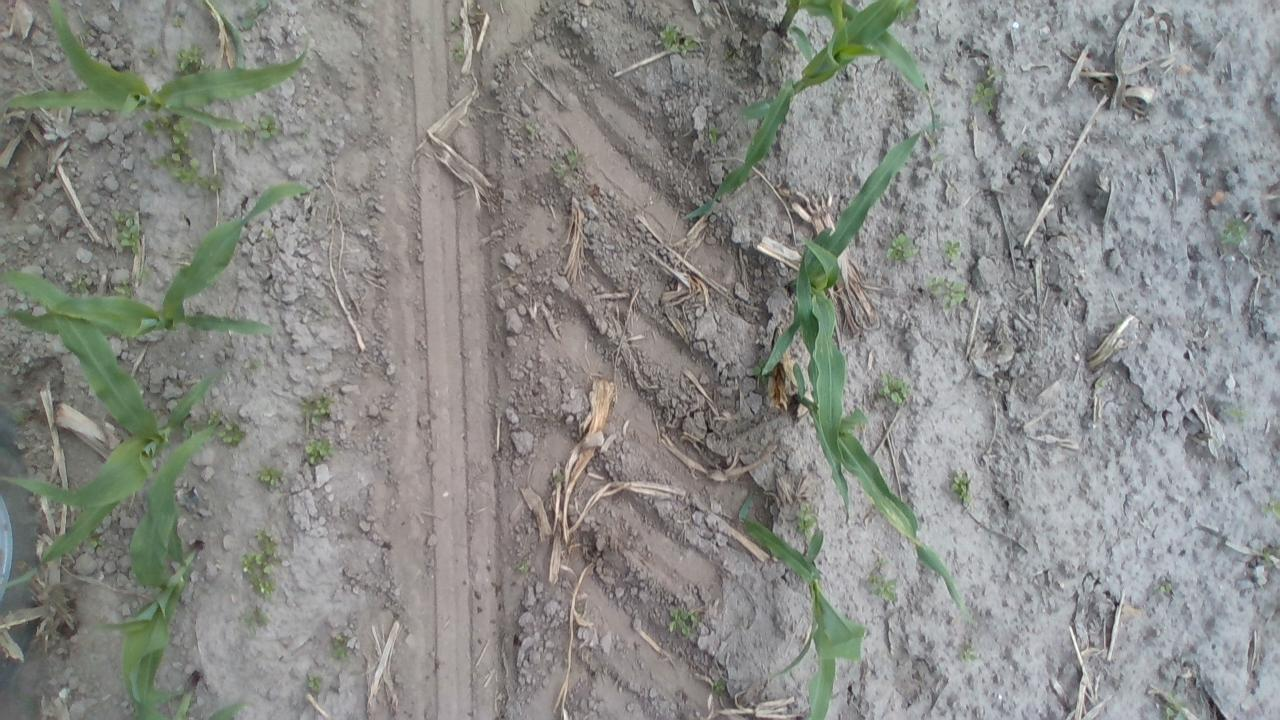Maize: (746, 114, 936, 534), (780, 240, 979, 616), (0, 286, 224, 594), (680, 0, 940, 220), (8, 175, 314, 346), (0, 1, 318, 133), (96, 420, 218, 720), (733, 481, 875, 718), (776, 1, 936, 126), (144, 676, 259, 719), (200, 0, 250, 72)
Weeds: (154, 114, 206, 188), (238, 526, 281, 600), (926, 274, 970, 308), (970, 66, 1001, 112), (300, 390, 336, 428), (656, 22, 696, 56), (877, 372, 912, 408), (111, 213, 142, 252), (237, 0, 272, 33), (884, 232, 920, 264), (667, 606, 701, 638), (1218, 212, 1248, 248), (302, 436, 338, 464), (173, 43, 206, 72), (948, 470, 974, 506), (795, 503, 820, 538), (870, 575, 900, 604), (256, 463, 286, 488), (330, 630, 354, 660), (1160, 697, 1192, 719), (218, 422, 244, 448), (240, 609, 272, 630), (258, 114, 281, 142), (554, 147, 578, 173), (752, 357, 771, 388), (892, 1, 916, 25), (942, 238, 963, 264), (141, 116, 165, 138), (546, 471, 568, 494), (310, 300, 333, 322), (1224, 404, 1248, 424), (200, 172, 224, 192), (133, 260, 153, 284), (68, 275, 93, 294), (706, 124, 724, 148), (958, 642, 979, 662), (111, 280, 135, 297), (306, 674, 326, 694), (720, 45, 739, 66), (516, 557, 535, 577), (86, 534, 105, 554), (1260, 548, 1277, 570), (523, 121, 540, 142), (1159, 579, 1178, 597), (1017, 140, 1034, 160), (10, 407, 28, 425), (1260, 498, 1276, 518), (4, 171, 18, 193), (708, 677, 727, 693), (929, 150, 946, 166), (452, 43, 467, 61), (146, 44, 162, 60), (170, 12, 187, 27), (259, 224, 274, 241), (1094, 373, 1108, 391), (248, 356, 264, 371), (205, 408, 221, 423), (873, 554, 890, 568), (316, 111, 334, 124), (298, 126, 312, 140), (575, 599, 585, 618)
